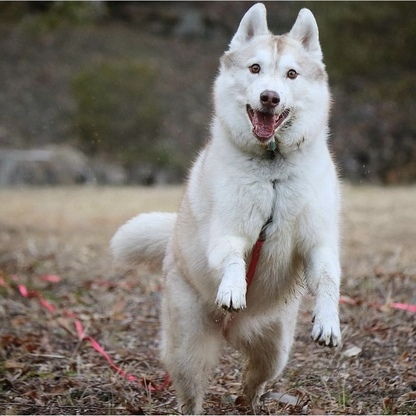husky: (105, 3, 349, 416)
